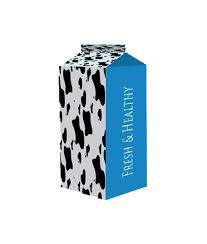Tetra pack: (41, 21, 168, 210)
